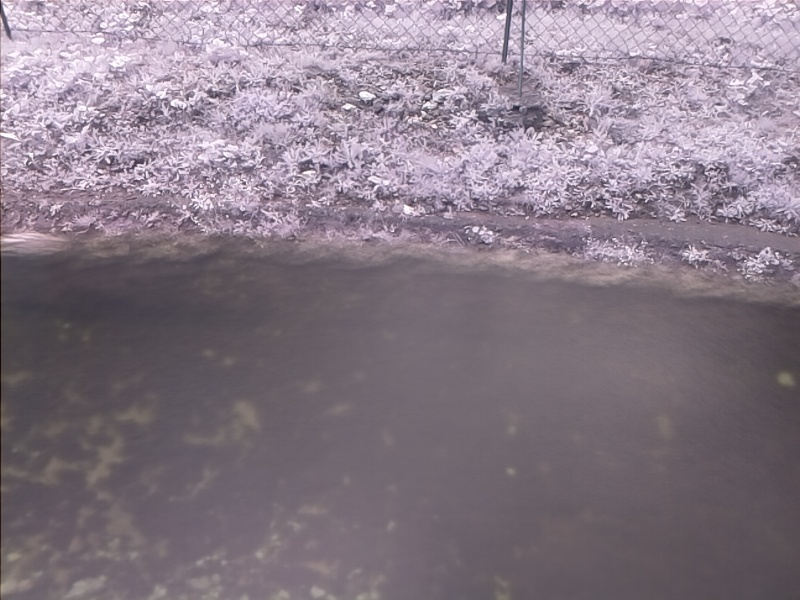Water: (1, 228, 798, 600)
